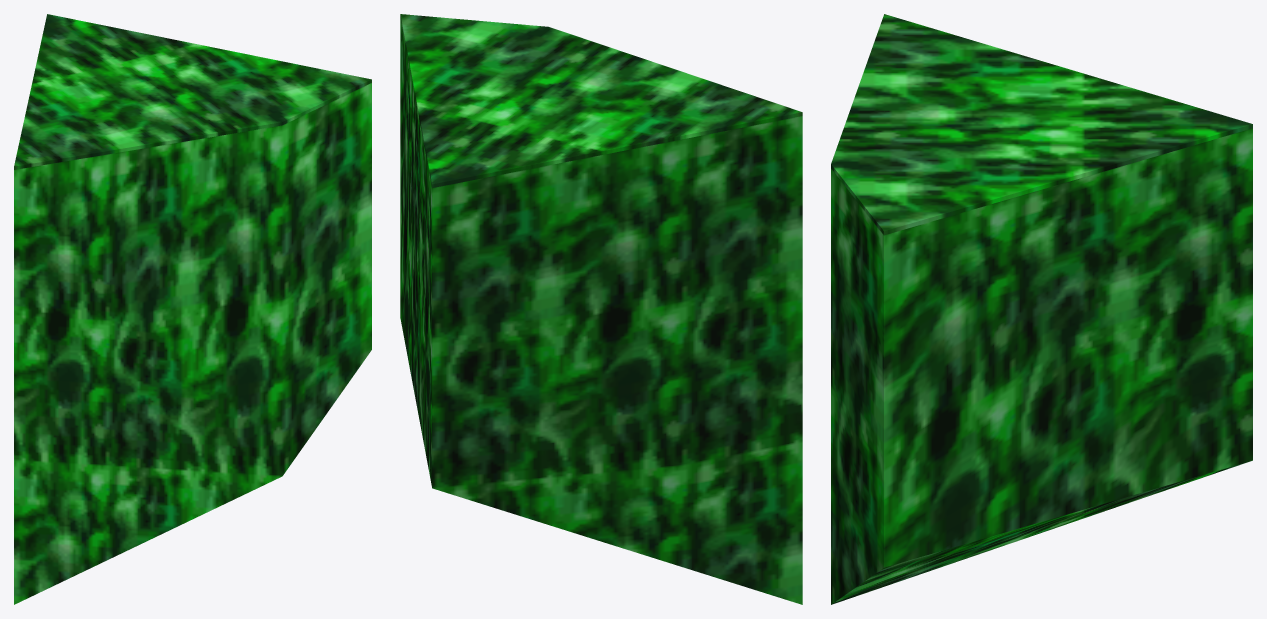
3 views of the same model, side by side, from view 1: azimuth 30°, elevation 25°; view 2: azimuth 150°, elevation 25°; view 3: azimuth 270°, elevation 25° (orthographic). The views are drawn at different scales.
Visible parts, largest first — view 1: kb3_h; view 2: kb3_h; view 3: kb3_h.
Part boxes in pixels (left/top/right/bottom): kb3_h: left=14, top=14, right=371, bottom=604; kb3_h: left=400, top=14, right=802, bottom=604; kb3_h: left=831, top=14, right=1252, bottom=604.
Bounding box in the file's own units: 4.36 × 5.1 × 3.57.
Materials: 1 (1 with a texture image).
